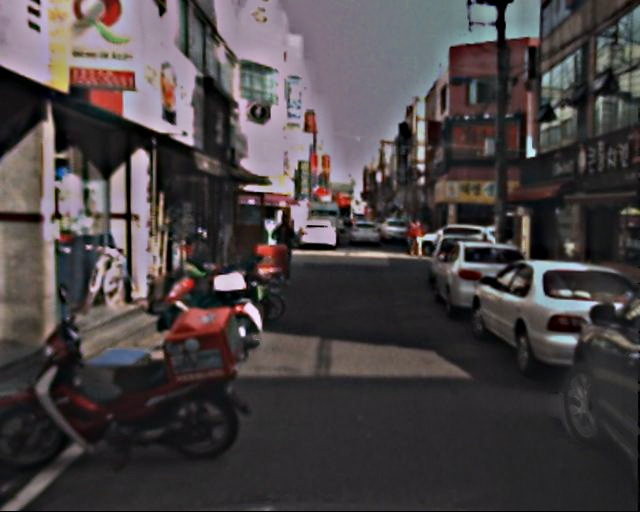person: (271, 213, 301, 286), (407, 220, 426, 259)
